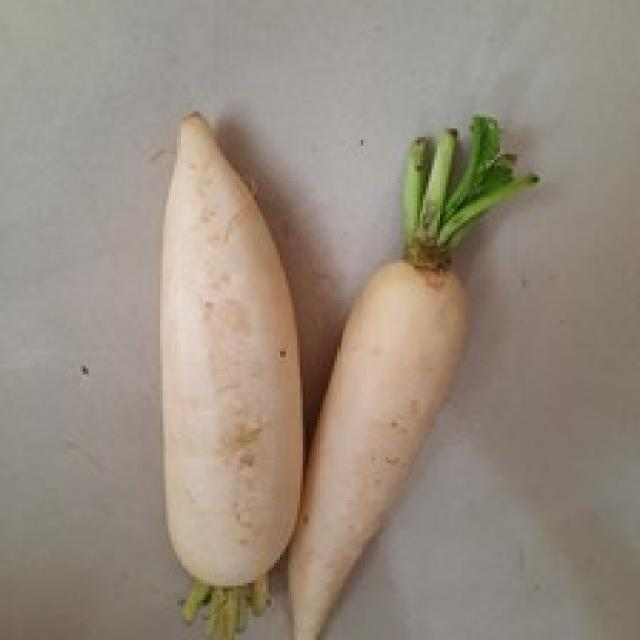Radish: (308, 85, 529, 640), (105, 102, 309, 600)
